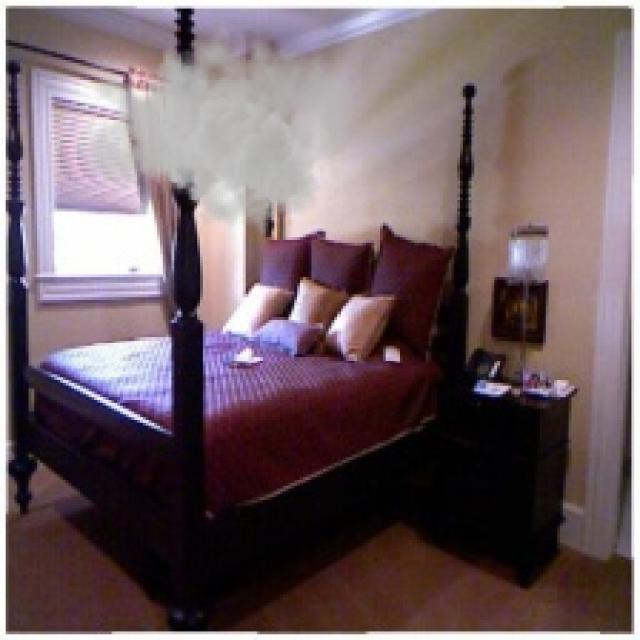Smoke: (80, 12, 357, 235)
